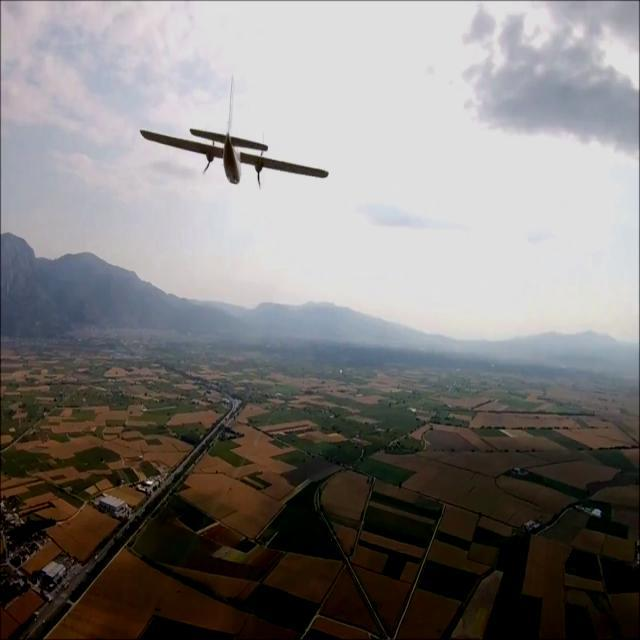iha: (141, 153, 329, 158)
